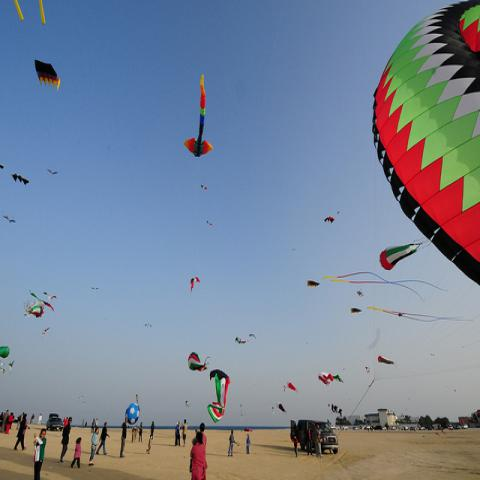car: (46, 413, 64, 432)
truck: (290, 419, 340, 454)
